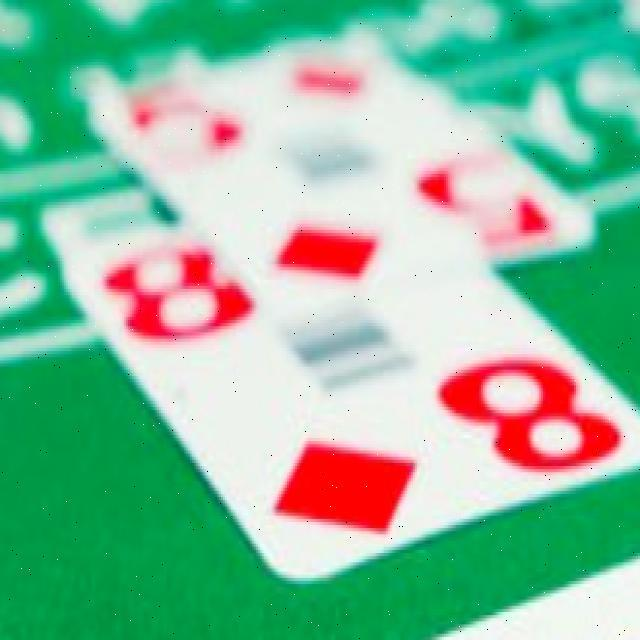Card-5: (89, 33, 598, 337)
Card-8: (62, 224, 639, 582)
